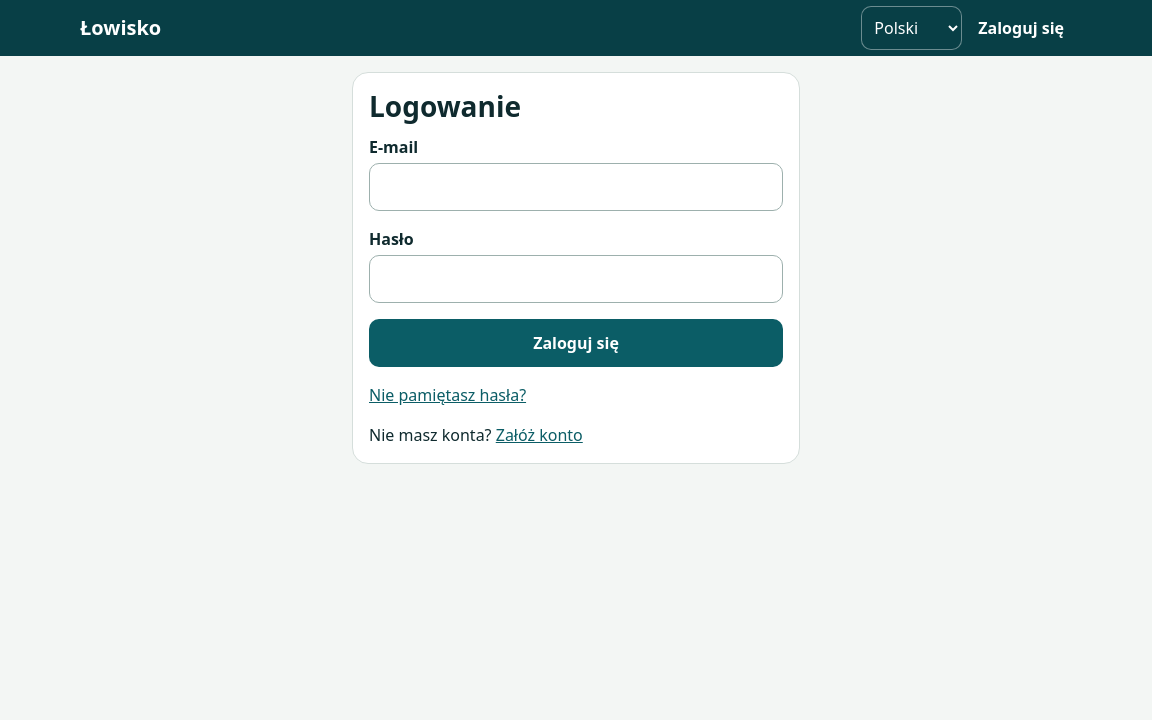
login › shows the translated error for wrong credentials
Type "jan@example.test" into the field labelled "E-mail".
click(576, 187); type("jan@example.test")  # box [369,163,783,211]
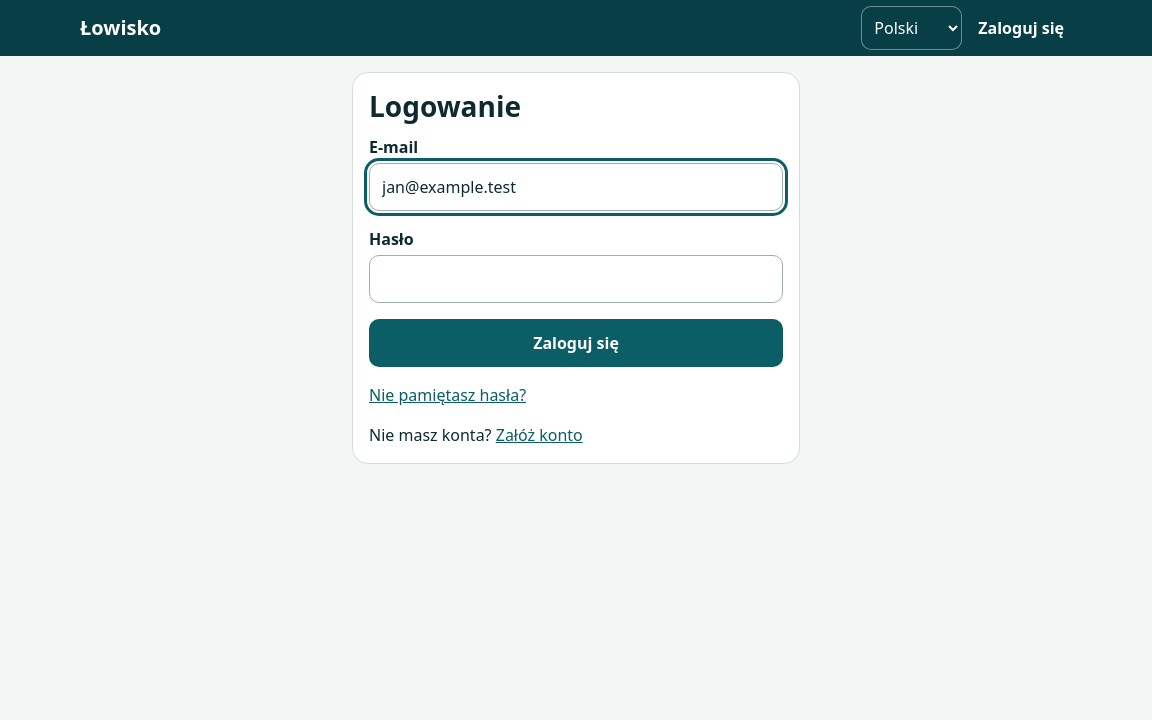
Type "wrong" into the password field labelled "Hasło".
click(576, 279); type("wrong")  # box [369,255,783,303]
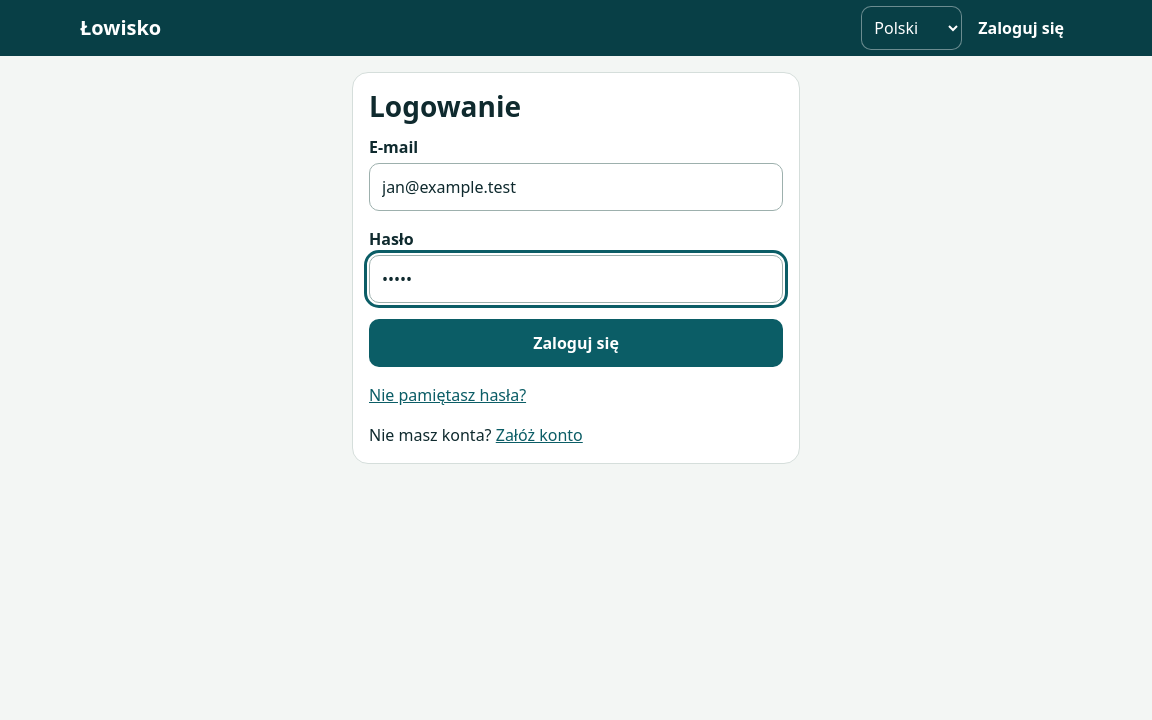
Click the button "Zaloguj się".
click(576, 343)  # box [369,319,783,367]
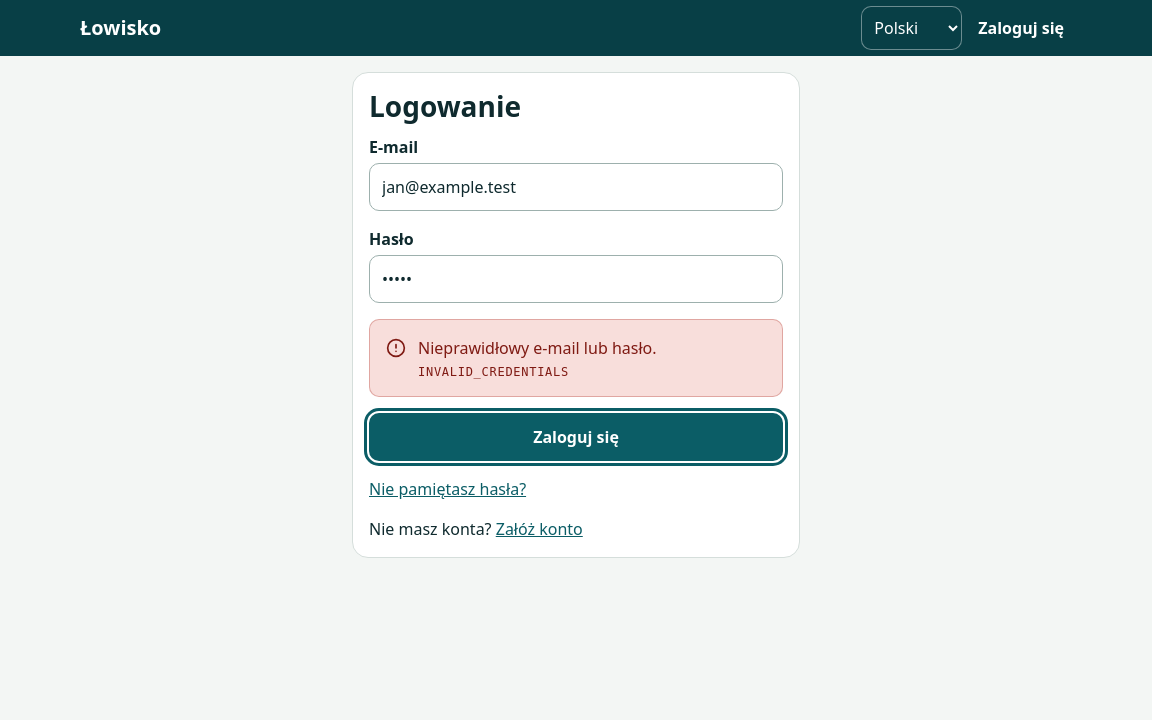
Check: the text "Nieprawidłowy e-mail lub hasło." is shown, box [418,337,656,359]
